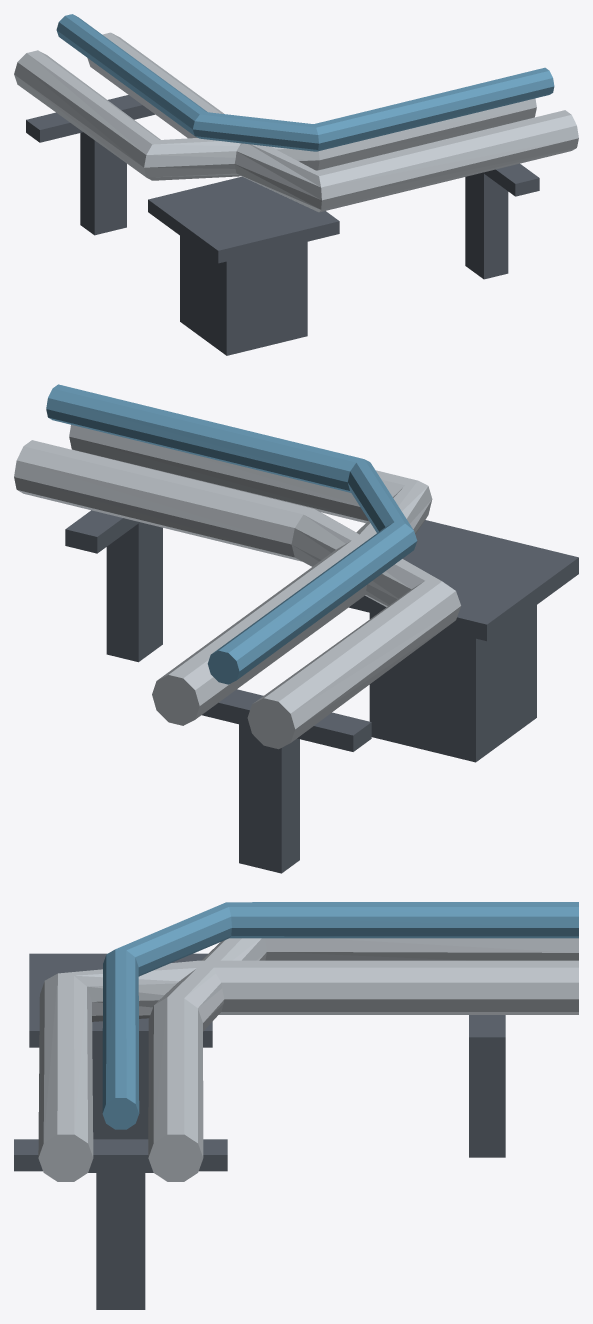
File: spaceship-deck-kit-conduit-corner-a78e313f__12577.glb
The picture shows the model from 3 angles, top to bottom: view 1: azimuth 30°, elevation 25°; view 2: azimuth 150°, elevation 25°; view 3: azimuth 270°, elevation 25°; orthographic projection. The views are drawn at different scales.
Parts seen in each view (by area): view 1: conduit-corner; view 2: conduit-corner; view 3: conduit-corner.
Boxes of the visible parts, left/top/right/bottom form: conduit-corner: left=14, top=14, right=578, bottom=355; conduit-corner: left=14, top=384, right=578, bottom=873; conduit-corner: left=14, top=902, right=578, bottom=1309.
Bounding box in the file's own units: 1.85 × 0.877 × 1.85.
